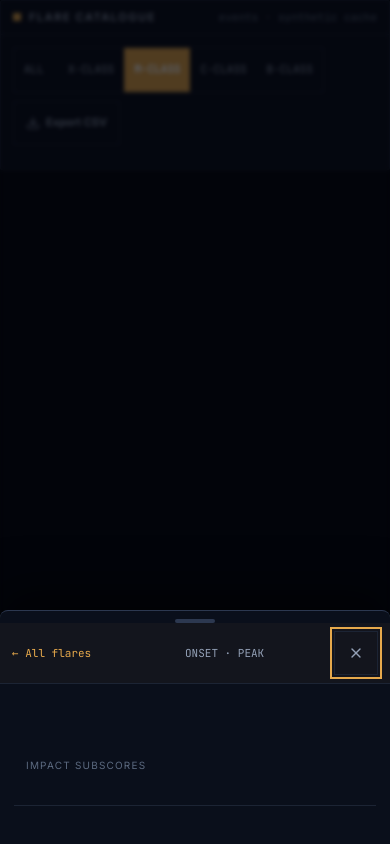
FlareCatalogue on a phone › closes the sheet back to the filtered list
Click the button named "Close flare detail" at [356, 653], box left=334, top=631, right=378, bottom=675
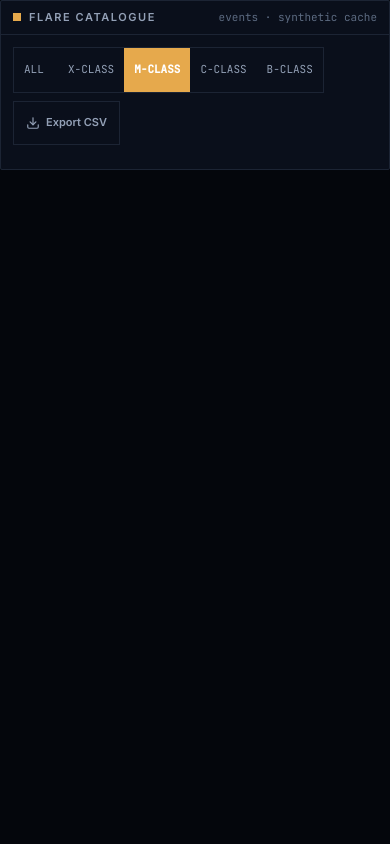
Now the dialog is gone
